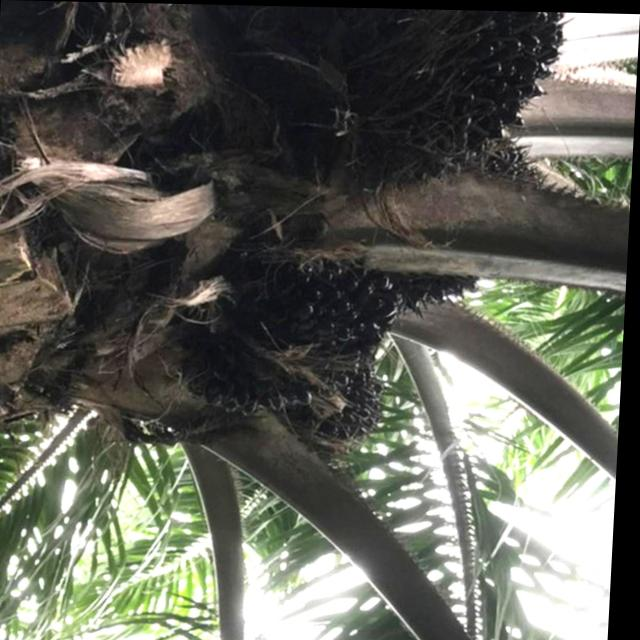almost: (172, 226, 418, 419)
